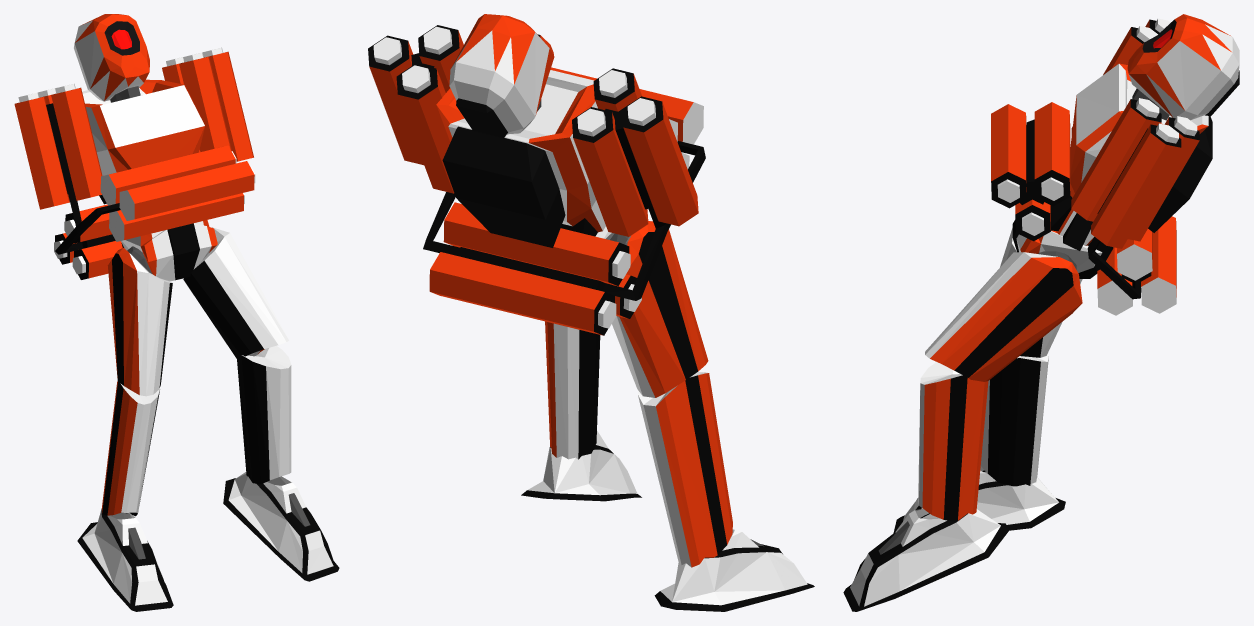
File: robots_000002.obj
3 views of the same model, side by side, from view 1: azimuth 30°, elevation 25°; view 2: azimuth 150°, elevation 25°; view 3: azimuth 270°, elevation 25° (orthographic). The views are drawn at different scales.
Visible parts, largest first — view 1: Cylinder.004_Cylinder.006, Chest_plate_Cube.004, R_Thigh_Cube.005, R_Thigh.002_Cube.027, R_Foot.002_Cube.035, R_Shin.002_Cube.029, R_Foot_Cube, R_Shin_Cube.007, Head_base.002_Cube.030, Pelvis_Cube.006; view 2: Cylinder.004_Cylinder.006, Chest_plate_Cube.004, R_Shin_Cube.007, Head_base.002_Cube.030, R_Thigh_Cube.005, R_Foot_Cube, R_Shin.002_Cube.029, R_Foot.002_Cube.035; view 3: Cylinder.004_Cylinder.006, R_Thigh.002_Cube.027, R_Shin.002_Cube.029, R_Foot.002_Cube.035, Head_base.002_Cube.030, Chest_plate_Cube.004, R_Shin_Cube.007, R_Foot_Cube, Pelvis_Cube.006, R_Thigh_Cube.005.
Boxes of the visible parts, x1,y1,x2,y2 form: Cylinder.004_Cylinder.006: [14, 47, 255, 279]; Chest_plate_Cube.004: [82, 79, 204, 204]; R_Thigh_Cube.005: [107, 247, 172, 396]; R_Thigh.002_Cube.027: [183, 227, 288, 360]; R_Foot.002_Cube.035: [223, 472, 339, 581]; R_Shin.002_Cube.029: [237, 346, 291, 484]; R_Foot_Cube: [77, 509, 173, 611]; R_Shin_Cube.007: [101, 381, 160, 516]; Head_base.002_Cube.030: [74, 14, 149, 101]; Pelvis_Cube.006: [121, 220, 217, 281]; Cylinder.004_Cylinder.006: [368, 25, 705, 335]; Chest_plate_Cube.004: [436, 70, 605, 247]; R_Shin_Cube.007: [637, 371, 732, 567]; Head_base.002_Cube.030: [449, 14, 554, 138]; R_Thigh_Cube.005: [612, 221, 708, 397]; R_Foot_Cube: [654, 529, 814, 611]; R_Shin.002_Cube.029: [545, 321, 600, 459]; R_Foot.002_Cube.035: [521, 431, 641, 501]; Cylinder.004_Cylinder.006: [991, 18, 1199, 315]; R_Thigh.002_Cube.027: [925, 252, 1082, 381]; R_Shin.002_Cube.029: [918, 362, 988, 521]; R_Foot.002_Cube.035: [843, 509, 1008, 611]; Head_base.002_Cube.030: [1127, 14, 1239, 120]; Chest_plate_Cube.004: [1050, 63, 1212, 250]; R_Shin_Cube.007: [980, 353, 1048, 486]; R_Foot_Cube: [893, 466, 1065, 532]; Pelvis_Cube.006: [1012, 220, 1113, 278]; R_Thigh_Cube.005: [1000, 228, 1082, 357].
Bounding box in the file's own units: 1.38 × 2.97 × 1.9.
